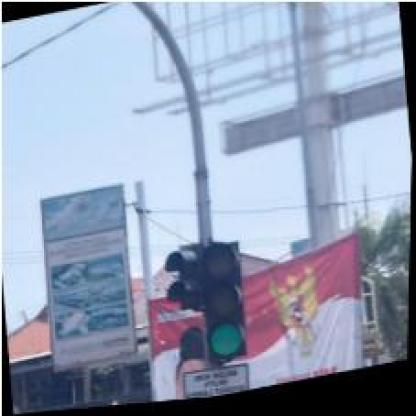green: (196, 242, 251, 366)
